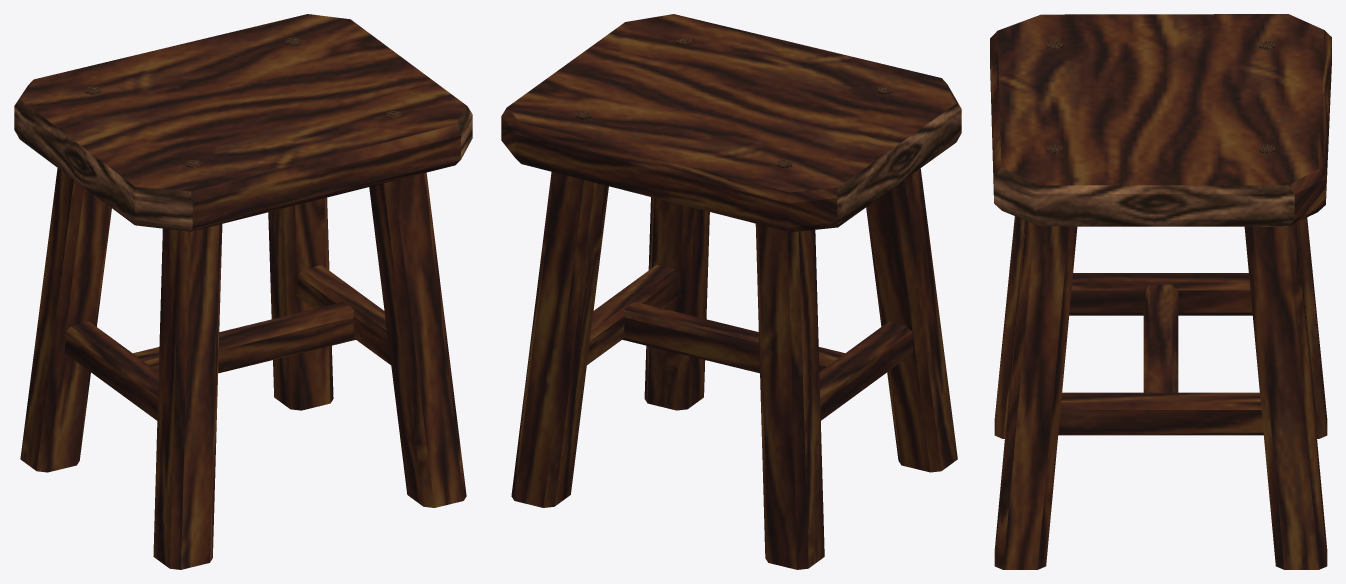
File: Banqueta-de-Madeira.glb
3 views of the same model, side by side, from view 1: azimuth 30°, elevation 25°; view 2: azimuth 150°, elevation 25°; view 3: azimuth 270°, elevation 25° (orthographic). The views are drawn at different scales.
Parts seen in each view (by area): view 1: Assento oitavado, Pés inclinados, Travessas baixas, Travessa central; view 2: Assento oitavado, Pés inclinados, Travessas baixas, Travessa central; view 3: Assento oitavado, Pés inclinados, Travessas baixas, Travessa central, Cavilhas do assento.
Part boxes in pixels (box(x1,y1,x2,y2)): Assento oitavado: box(14, 14, 472, 231); Pés inclinados: box(20, 168, 466, 569); Travessas baixas: box(64, 265, 390, 420); Travessa central: box(133, 302, 355, 373); Assento oitavado: box(501, 14, 961, 232); Pés inclinados: box(511, 168, 957, 569); Travessas baixas: box(587, 265, 913, 420); Travessa central: box(622, 302, 844, 373); Assento oitavado: box(990, 14, 1331, 226); Pés inclinados: box(994, 216, 1327, 569); Travessas baixas: box(1058, 273, 1263, 435); Travessa central: box(1143, 284, 1178, 392); Cavilhas do assento: box(1047, 41, 1274, 154).
Size of the model in its own units: 0.407 by 0.433 by 0.338.
2 materials, 2 textured.
